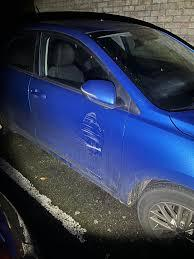scratch: (73, 104, 112, 169)
